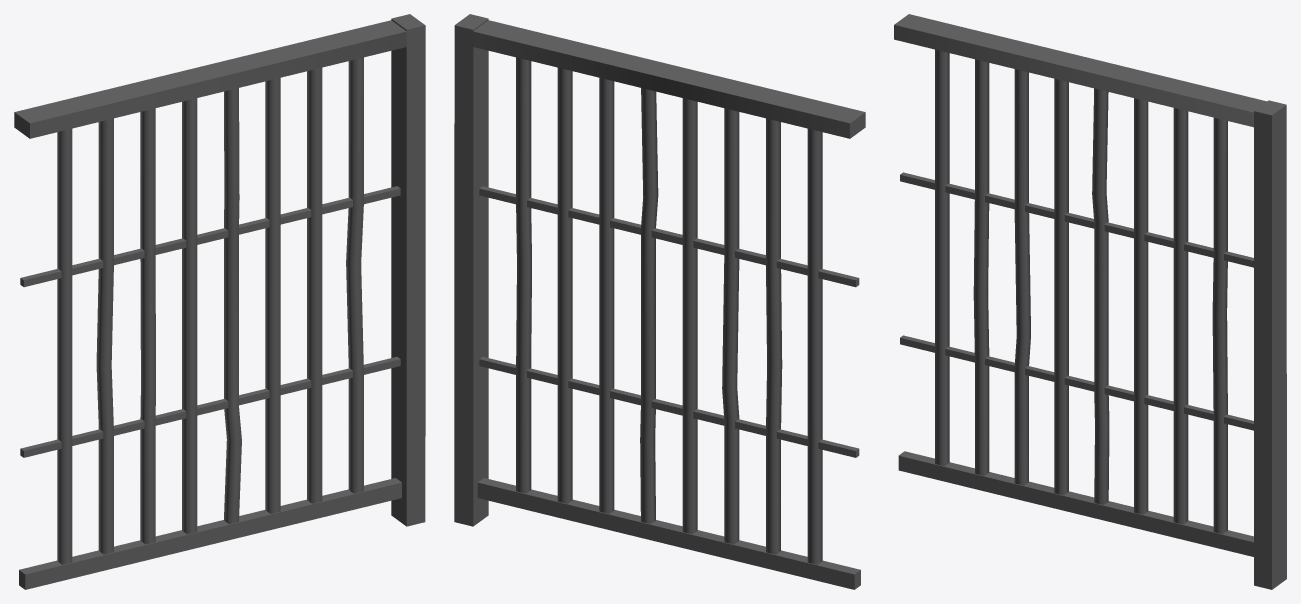
The model's file is SW_PROP_Barrier.fbx.
The picture shows the model from 3 angles, left to right: view 1: azimuth 30°, elevation 25°; view 2: azimuth 150°, elevation 25°; view 3: azimuth 330°, elevation 25°; orthographic projection. The views are drawn at different scales.
Visible parts, largest first — view 1: SW_PROP_Barrier; view 2: SW_PROP_Barrier; view 3: SW_PROP_Barrier.
Boxes of the visible parts, bbox=[...] form: SW_PROP_Barrier: bbox=[14, 14, 425, 589]; SW_PROP_Barrier: bbox=[454, 14, 865, 589]; SW_PROP_Barrier: bbox=[894, 14, 1286, 589].
Size of the model in its own units: 2 by 2.4 by 0.136.
